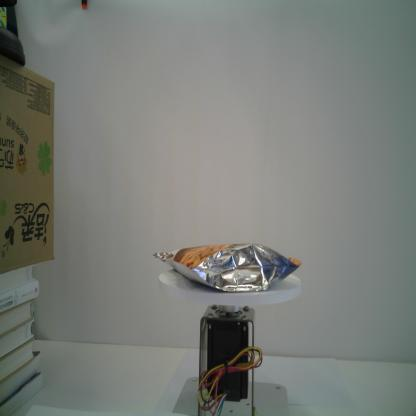Dried Fruit: (152, 242, 302, 293)
